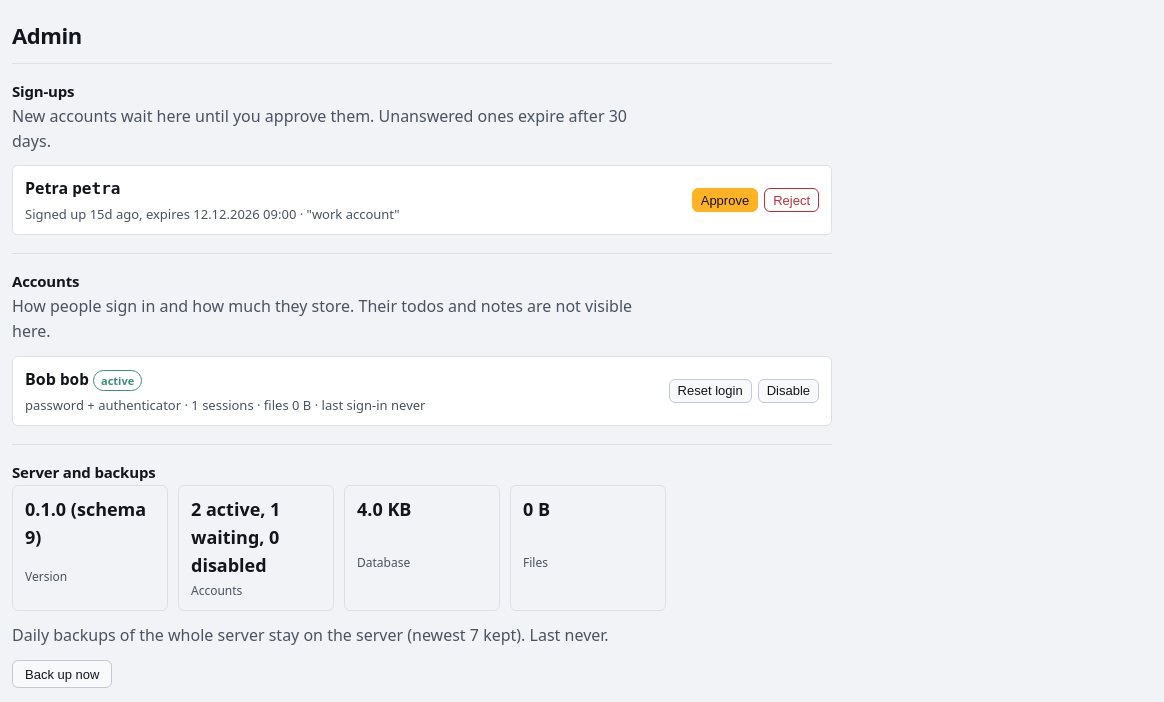
Test case: admin page › approves a sign-up and shows a reset code once
Expected: the text "Signed up 15d ago, expires 12.12.2026 09:00 · \"work account\"" is shown, 25,205 -> 400,223
What coordinates should you click on to do the following:
click the button "Approve"
I would click on:
 (725, 200)
Its box is 692,188 -> 758,212.
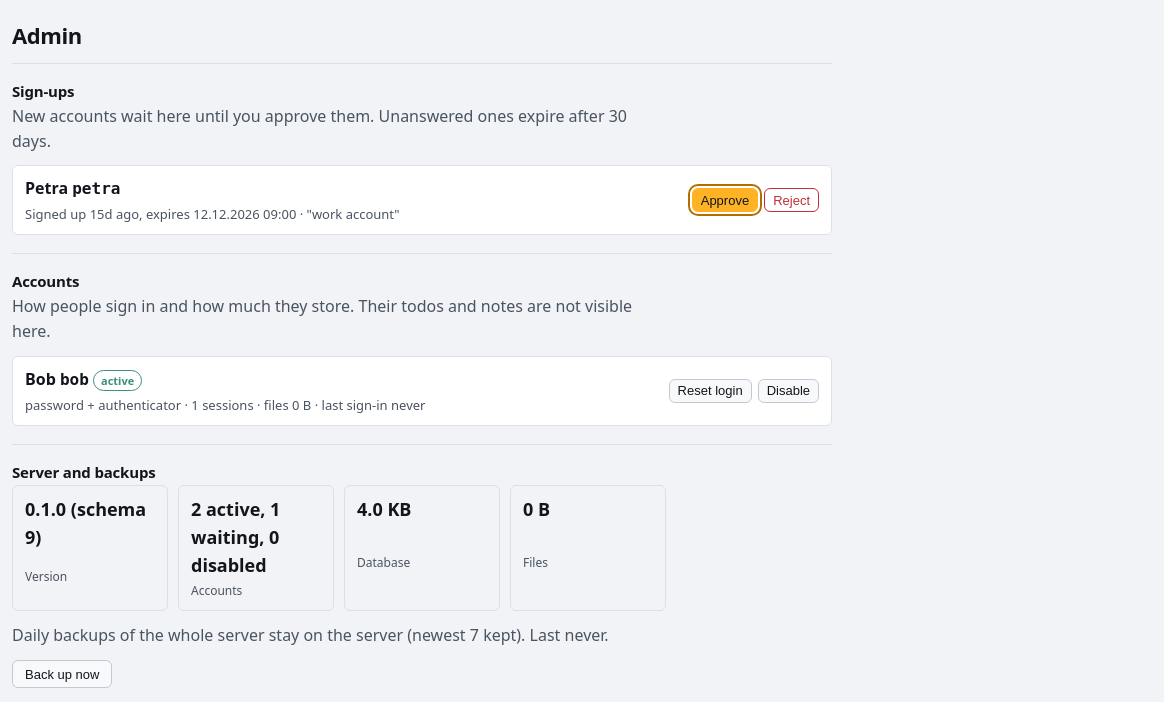
What coordinates should you click on to do the following:
click the button "Reset login"
I would click on:
 (710, 391)
Its box is 669,379 -> 752,403.
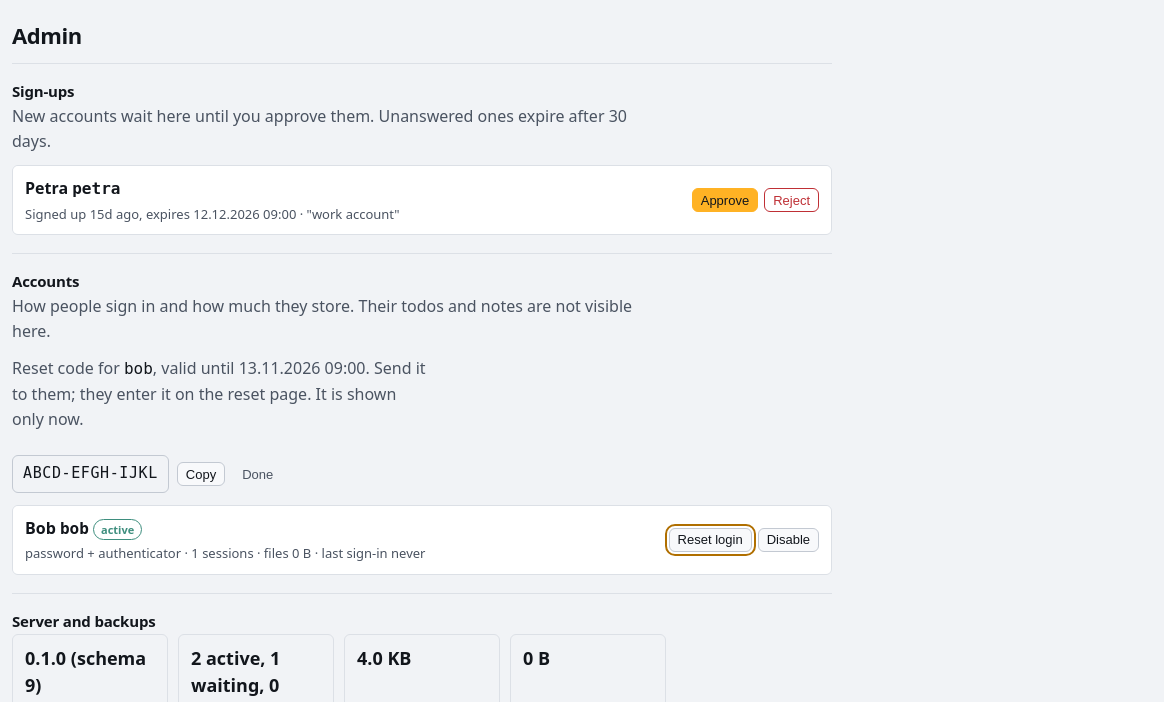
Expected: the text "ABCD-EFGH-IJKL" is shown, 12,455 -> 169,493
